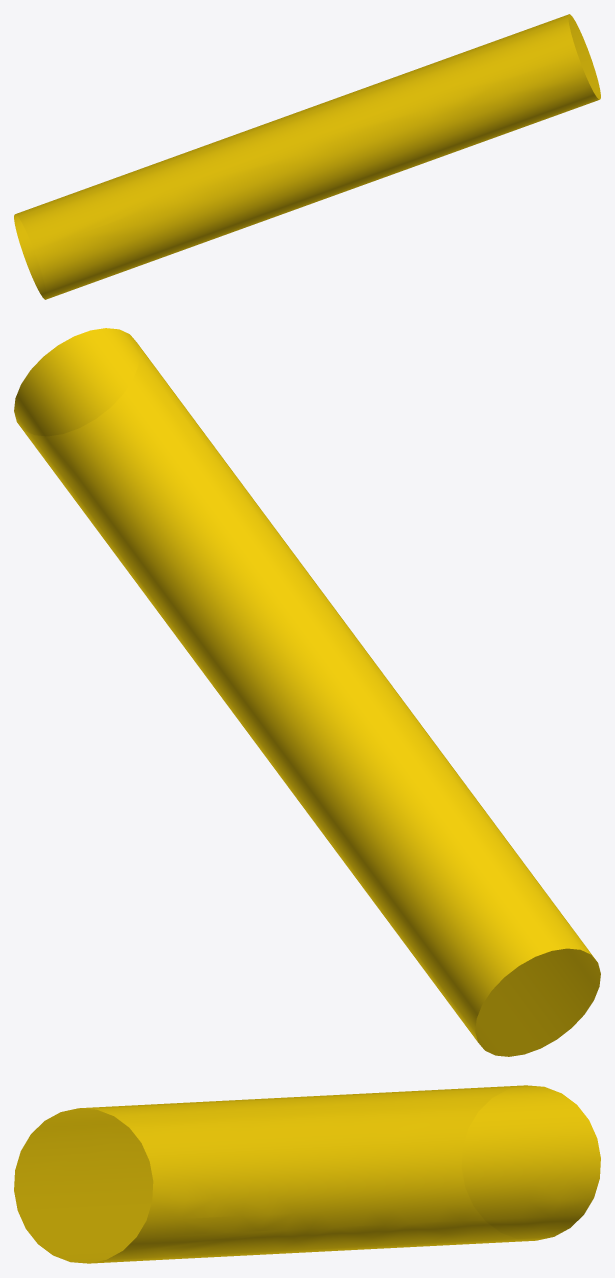
File: Event_421364160_track_15.fbx
3 renders of one model, top to bottom at view 1: azimuth 30°, elevation 25°; view 2: azimuth 150°, elevation 25°; view 3: azimuth 270°, elevation 25°, orthographic. The views are drawn at different scales.
Parts seen in each view (by area): view 1: Model; view 2: Model; view 3: Model.
Part boxes in pixels (x1,y1,x2,y2): Model: [14, 14, 600, 299]; Model: [14, 328, 600, 1056]; Model: [14, 1085, 600, 1263].
Size of the model in its own units: 0.2365 by 0.1306 by 0.1508.
